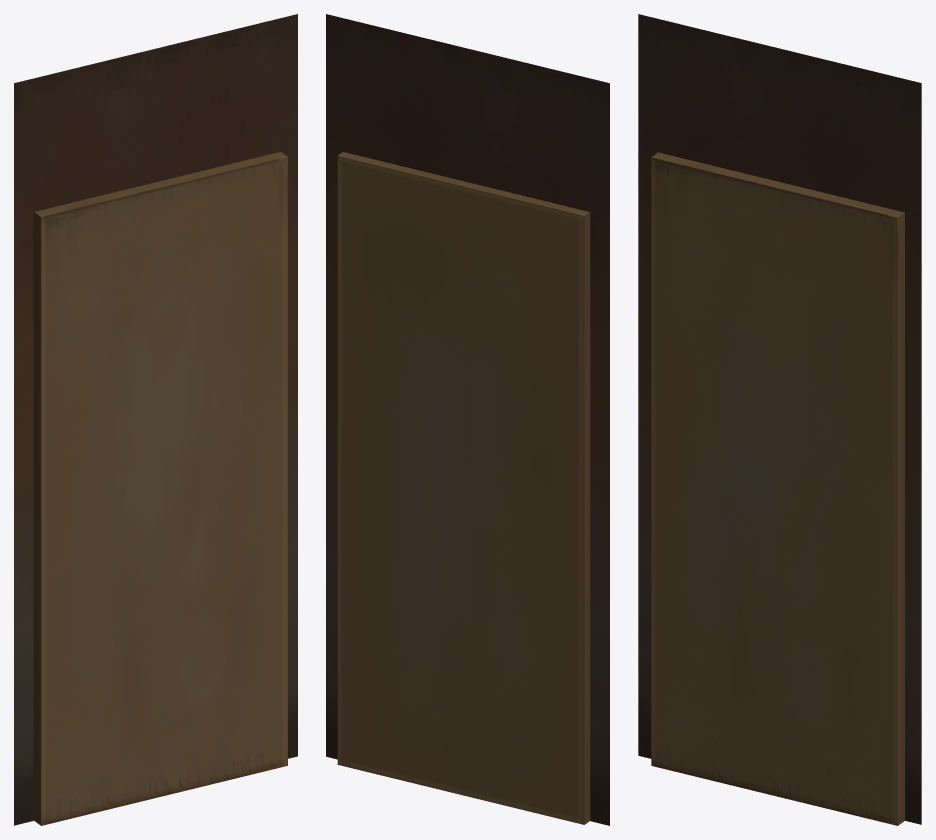
File: Door Wall.fbx
3 renders of one model, left to right at view 1: azimuth 30°, elevation 25°; view 2: azimuth 150°, elevation 25°; view 3: azimuth 330°, elevation 25°, orthographic.
Parts seen in each view (by area): view 1: Door_Piece4, Wall_Cutout_Piece4; view 2: Door_Piece4, Wall_Cutout_Piece4; view 3: Door_Piece4, Wall_Cutout_Piece4.
Boxes of the visible parts, bbox=[...] form: Door_Piece4: bbox=[33, 152, 287, 825]; Wall_Cutout_Piece4: bbox=[14, 14, 297, 825]; Door_Piece4: bbox=[337, 152, 590, 824]; Wall_Cutout_Piece4: bbox=[326, 14, 609, 825]; Door_Piece4: bbox=[651, 152, 904, 825]; Wall_Cutout_Piece4: bbox=[638, 14, 921, 824].
Size of the model in its own units: 100 by 250 by 7.61.
